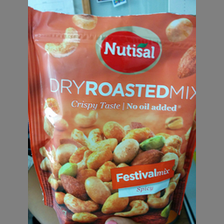nuts: (28, 6, 196, 224)
